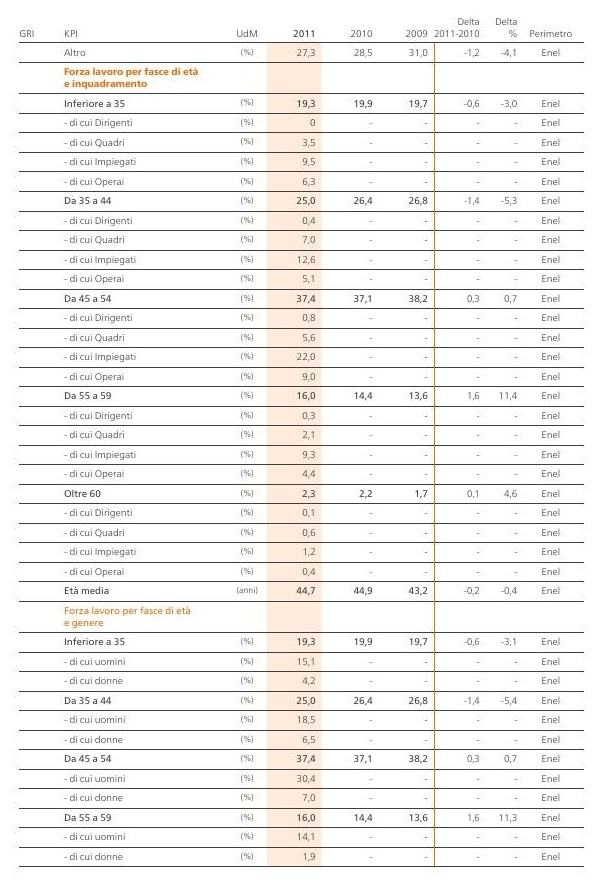table: (0, 0, 609, 885)
